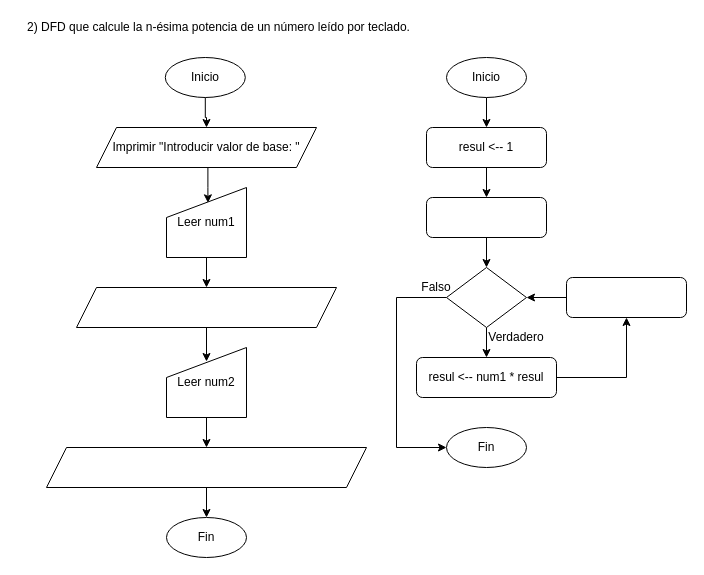
Image size: 704x575. Some labels were removed from this diagram. Each missing label, with the centre of its shape:
i <-- 1: the point at 486,217
i <-- i + 1: the point at 626,297
i <= num2: the point at 486,297
Imprimir "El valor final es: " + potencia(num1, Num2): the point at 206,467
Imprimir "Introducir valor de exponente: ": the point at 206,307
